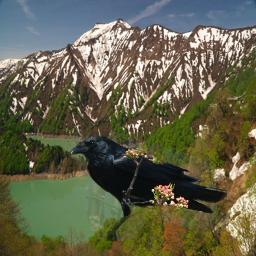Crow: (64, 132, 227, 241)
